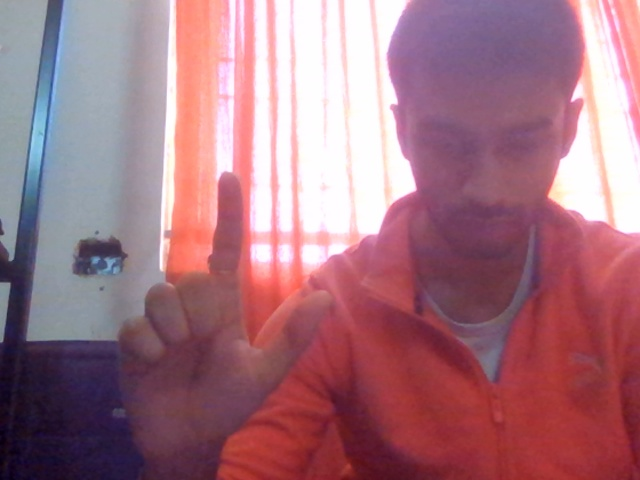L: (99, 136, 353, 480)
